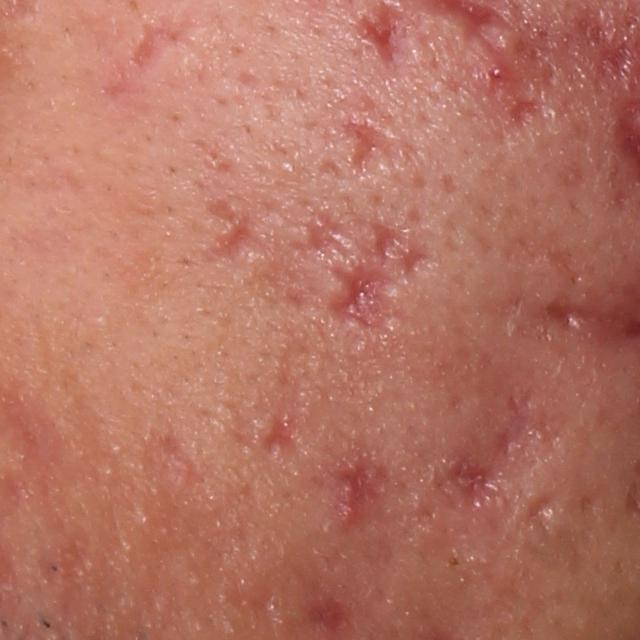atrophic_scar: (437, 394, 559, 511), (323, 259, 403, 338), (330, 446, 396, 531), (201, 200, 273, 265), (338, 117, 413, 178), (128, 10, 183, 72), (301, 208, 356, 265), (297, 601, 356, 639), (371, 217, 408, 258), (262, 410, 297, 453), (513, 493, 551, 532), (508, 99, 547, 130), (400, 242, 432, 278)
